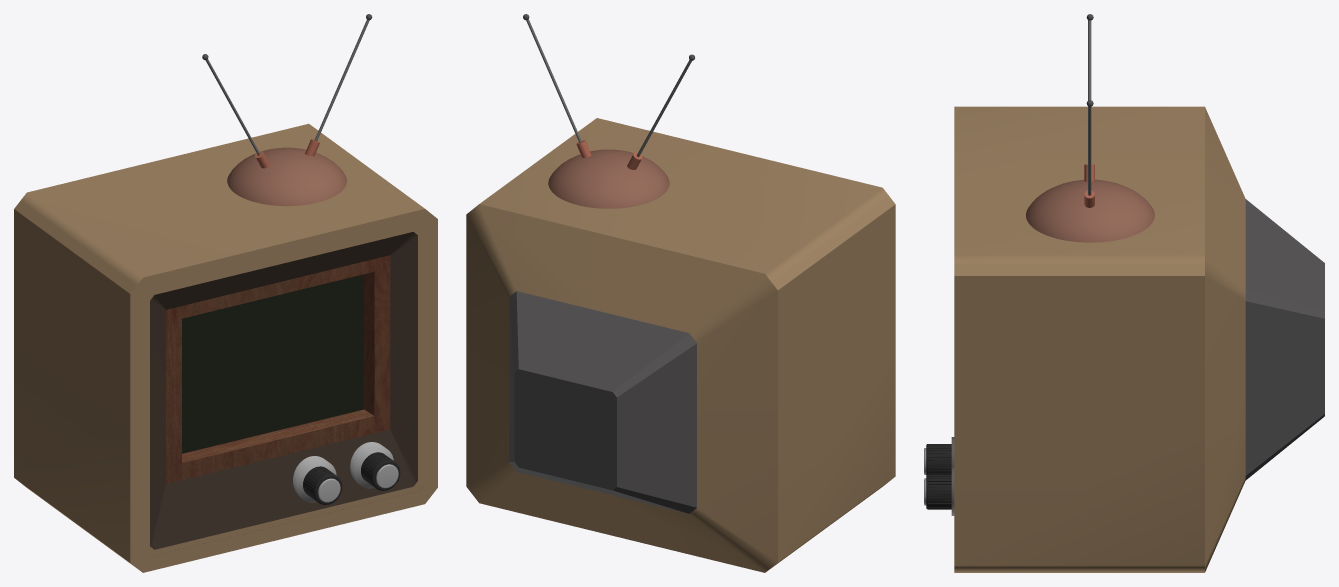
3 renders of one model, left to right at view 1: azimuth 30°, elevation 25°; view 2: azimuth 150°, elevation 25°; view 3: azimuth 270°, elevation 25°, orthographic. The views are drawn at different scales.
Visible parts, largest first — view 1: TV_0; view 2: TV_0; view 3: TV_0.
Boxes of the visible parts, bbox=[...] form: TV_0: bbox=[14, 14, 437, 572]; TV_0: bbox=[466, 14, 895, 572]; TV_0: bbox=[924, 14, 1324, 572].
Size of the model in its own units: 1.99 by 2.73 by 2.08.
11 materials, 1 textured.
